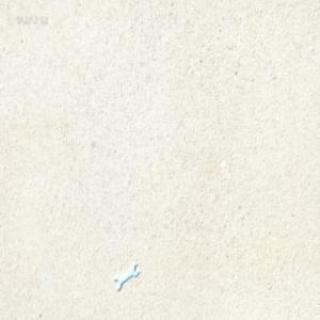Wrenchtrack_idkeyframe: (113, 260, 138, 290)
